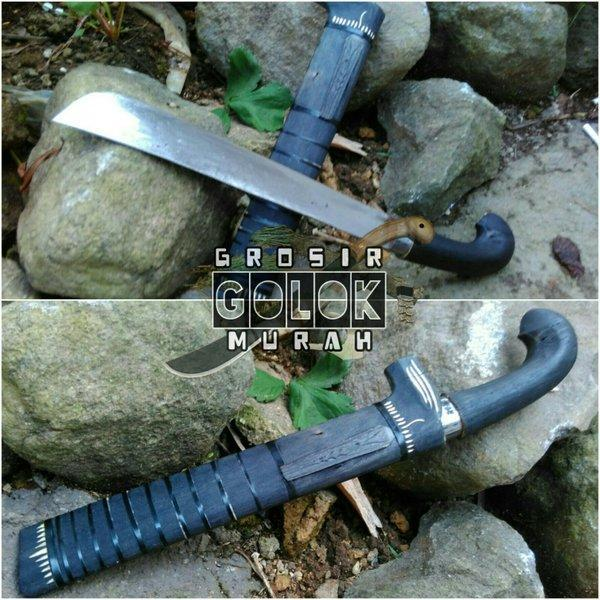espada: (18, 309, 577, 596), (52, 92, 513, 277)
